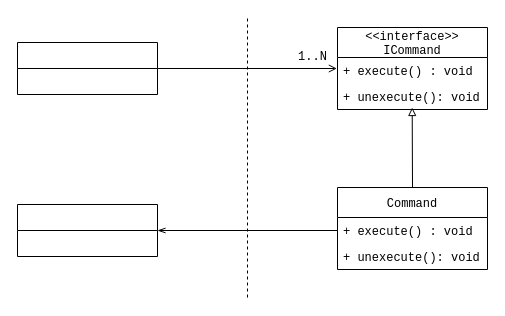
This 505x316 diagram has some shape labels left out. Here are the shapes that lost their labels. From the top down, the centre of each, then its label:
At (87,68): "Invoker".
At (87,230): "Receiver".
